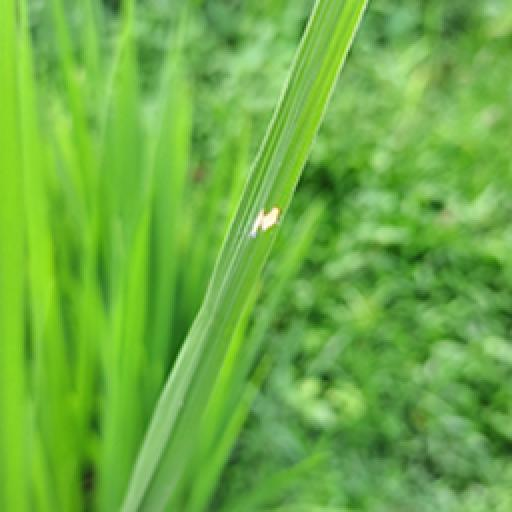Bacterial Leaf Blight: (244, 198, 290, 246)
